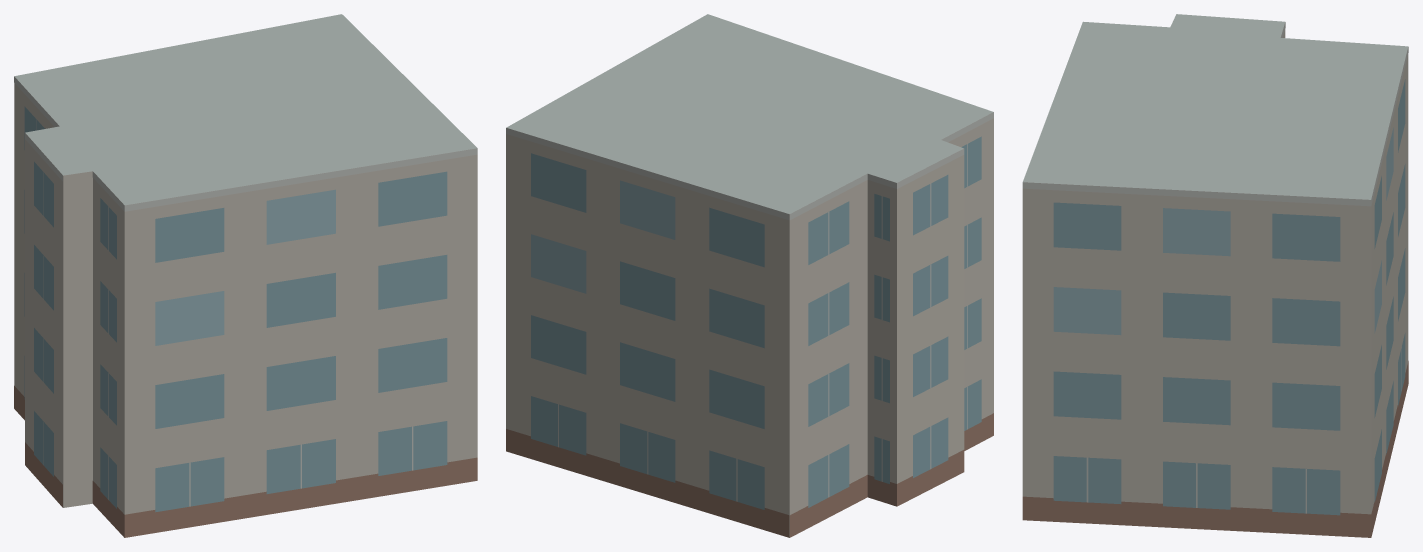
The model's file is survey-upis-32528075.glb.
3 renders of one model, left to right at view 1: azimuth 30°, elevation 25°; view 2: azimuth 150°, elevation 25°; view 3: azimuth 270°, elevation 25°, orthographic. The views are drawn at different scales.
Parts seen in each view (by area): view 1: survey-upis-32528075.tmp; view 2: survey-upis-32528075.tmp; view 3: survey-upis-32528075.tmp.
Part boxes in pixels (left/top/right/bottom): survey-upis-32528075.tmp: left=14, top=14, right=477, bottom=537; survey-upis-32528075.tmp: left=506, top=14, right=993, bottom=537; survey-upis-32528075.tmp: left=1022, top=14, right=1408, bottom=537.
Size of the model in its own units: 15.11 by 12.8 by 13.25.
